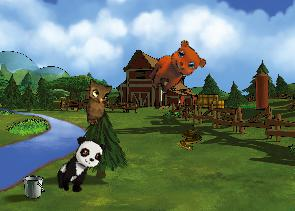bear: (143, 34, 210, 105)
owl: (84, 78, 115, 126)
panda: (51, 132, 108, 199)
